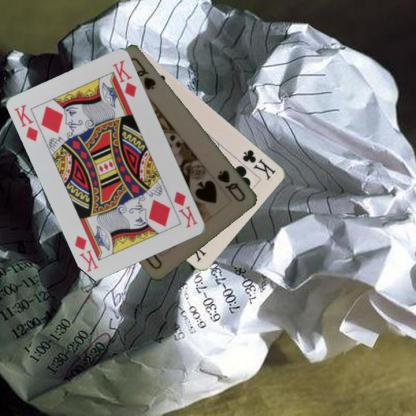Kc: (240, 147, 277, 181)
Kd: (11, 102, 40, 142), (171, 189, 199, 229)
Qs: (215, 167, 247, 203)
